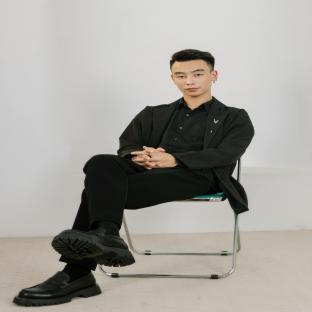Human: (13, 49, 254, 305)
